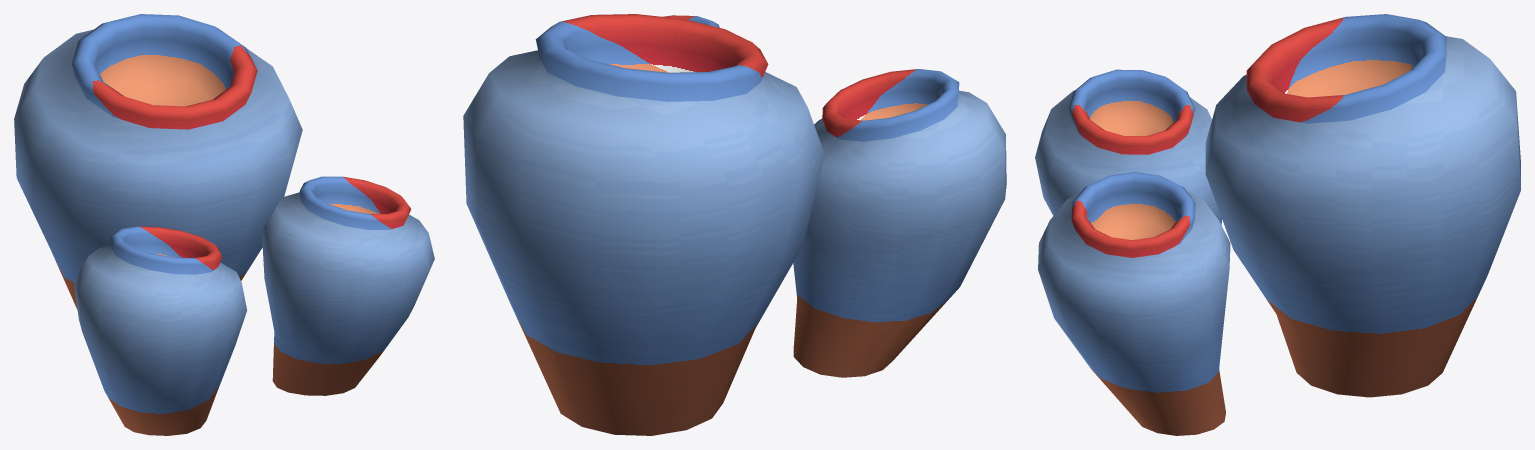
Rendered from D_CoralReef.157.glb.
The picture shows the model from 3 angles, left to right: view 1: azimuth 30°, elevation 25°; view 2: azimuth 150°, elevation 25°; view 3: azimuth 270°, elevation 25°; orthographic projection. The views are drawn at different scales.
Parts seen in each view (by area): view 1: D_CoralReef.157; view 2: D_CoralReef.157; view 3: D_CoralReef.157.
Part boxes in pixels (box(x1,y1,x2,y2)): D_CoralReef.157: box(14, 14, 434, 435); D_CoralReef.157: box(463, 14, 1006, 435); D_CoralReef.157: box(1035, 14, 1520, 435).
Bounding box in the file's own units: 0.4927 × 0.4163 × 0.5493.
Materials: 1 (1 with a texture image).
